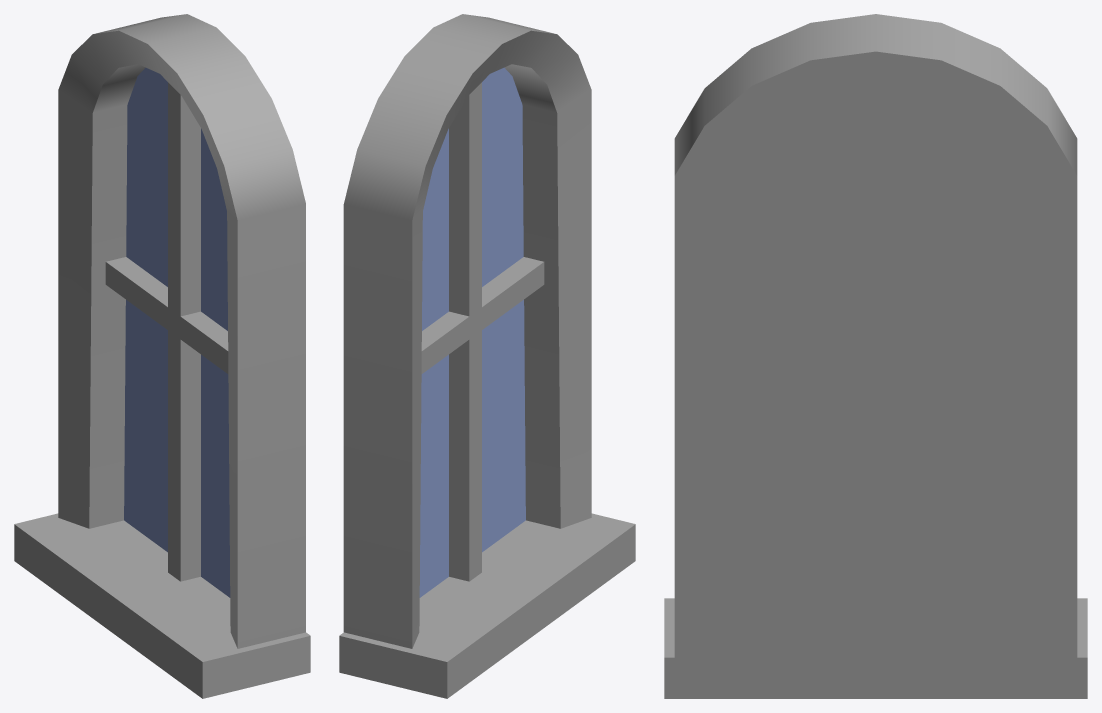
File: Town_hall_Archwindow_small.fbx
3 renders of one model, left to right at view 1: azimuth 30°, elevation 25°; view 2: azimuth 150°, elevation 25°; view 3: azimuth 270°, elevation 25°, orthographic. The views are drawn at different scales.
Visible parts, largest first — view 1: Town_hall_Archwindow_small; view 2: Town_hall_Archwindow_small; view 3: Town_hall_Archwindow_small.
Boxes of the visible parts, x1=… form: Town_hall_Archwindow_small: x1=14, y1=14, x2=310, y2=698; Town_hall_Archwindow_small: x1=339, y1=14, x2=635, y2=698; Town_hall_Archwindow_small: x1=664, y1=14, x2=1087, y2=698.
Size of the model in its own units: 22.94 by 117 by 69.3.
